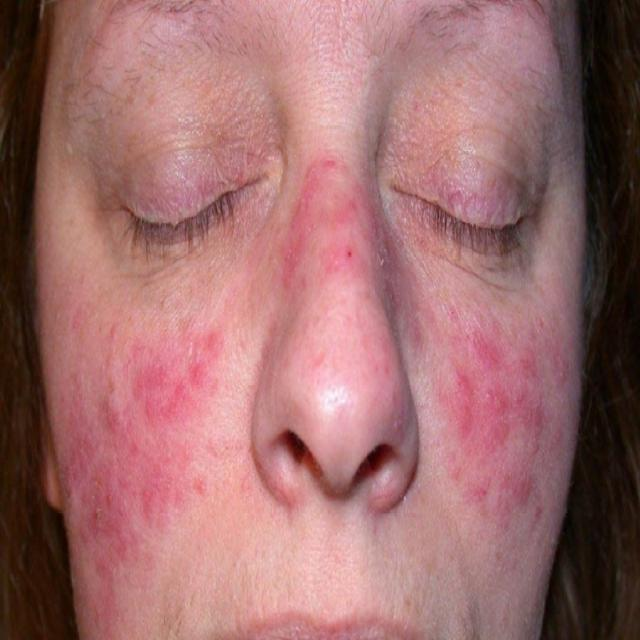Rosacea: (54, 282, 224, 628), (420, 278, 571, 550), (271, 134, 397, 400)
